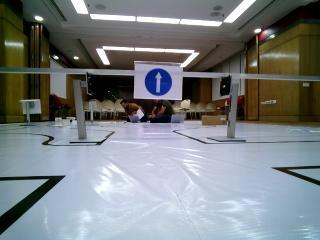straight: (132, 62, 184, 101)
